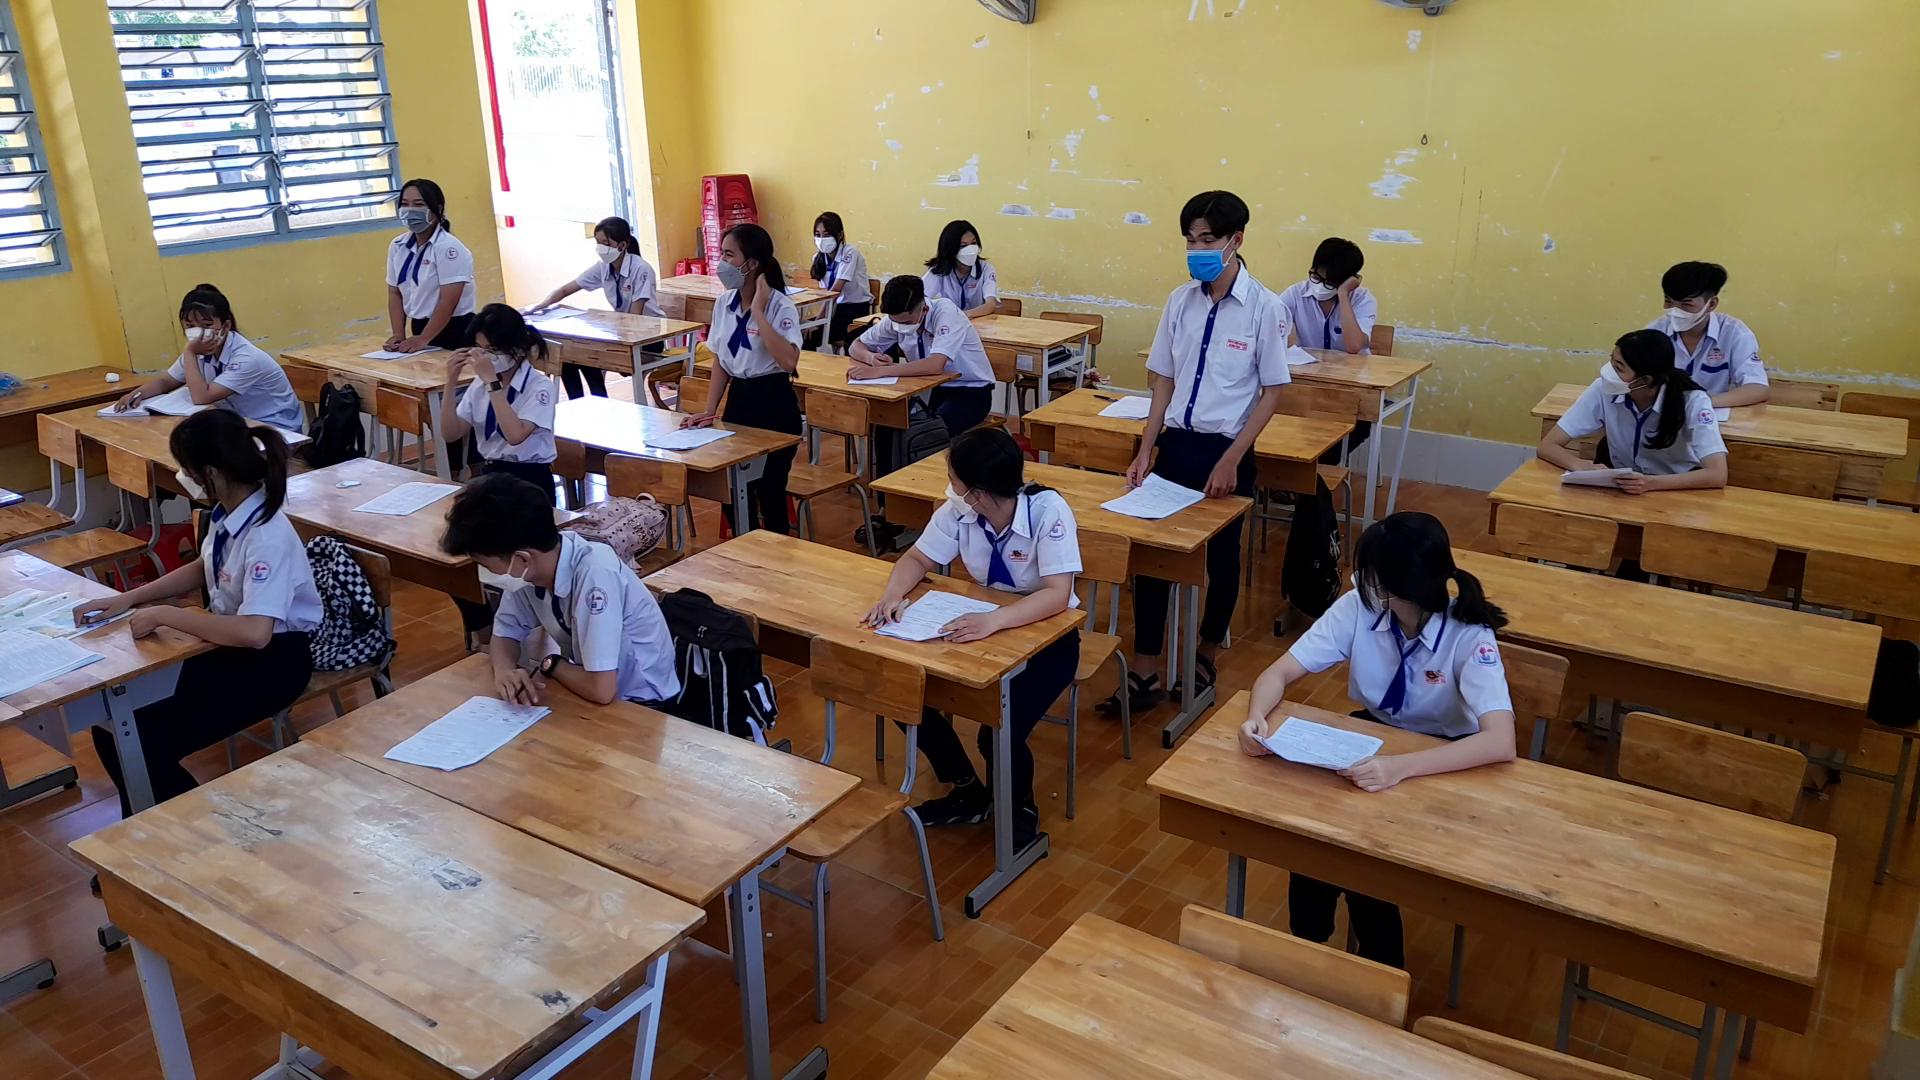Hand Under Table: (620, 256, 655, 320), (824, 247, 860, 303)
Look Around: (1341, 496, 1458, 626), (927, 414, 1035, 524)
Normal: (138, 407, 343, 653), (832, 266, 998, 393), (924, 204, 1009, 318)
Stand Up: (1113, 178, 1296, 509), (673, 207, 804, 439), (369, 165, 475, 363)
Wave: (475, 349, 554, 448), (170, 327, 245, 402), (1327, 272, 1385, 357), (427, 348, 473, 446)
